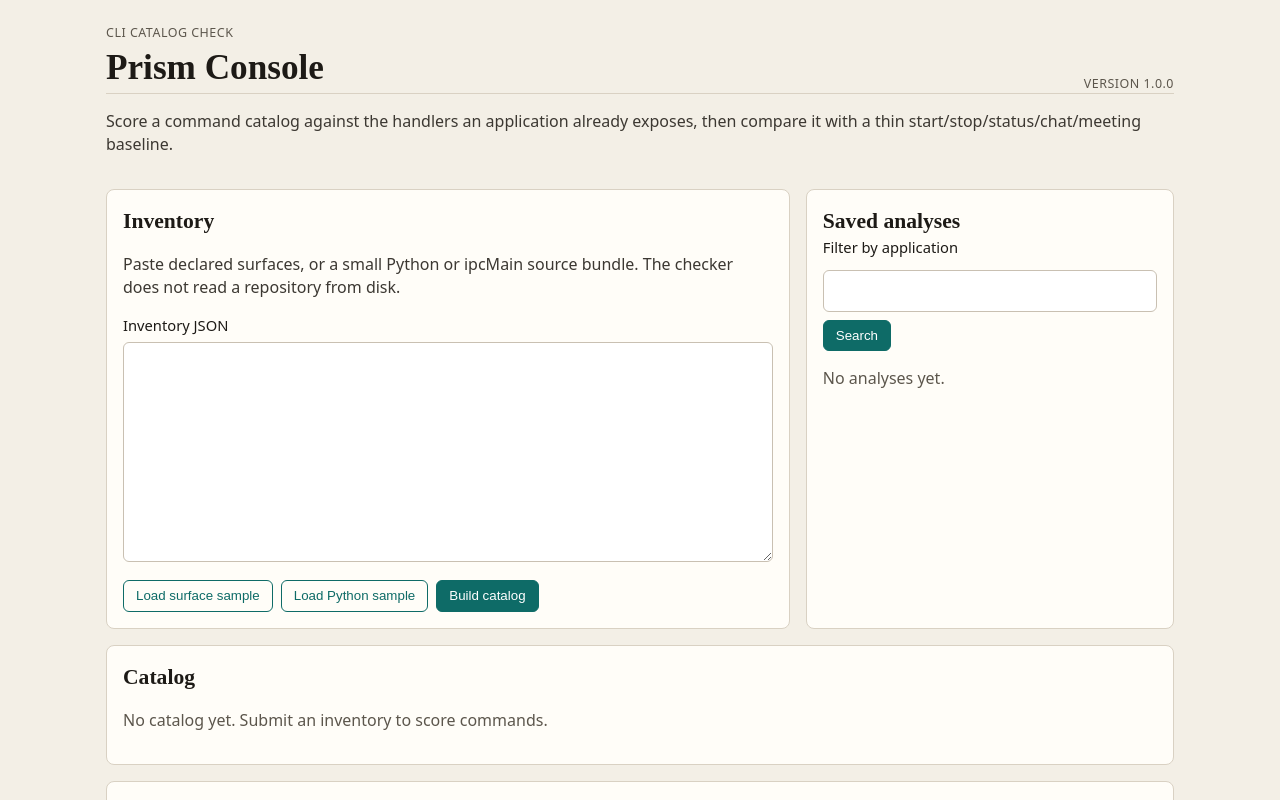
Test case: renders the command and scores returned by the API
Check: the text "No analyses yet." is shown, box [823, 367, 945, 389]
Click the text box labelled "Inventory JSON" at (448, 452), box [123, 342, 773, 562]
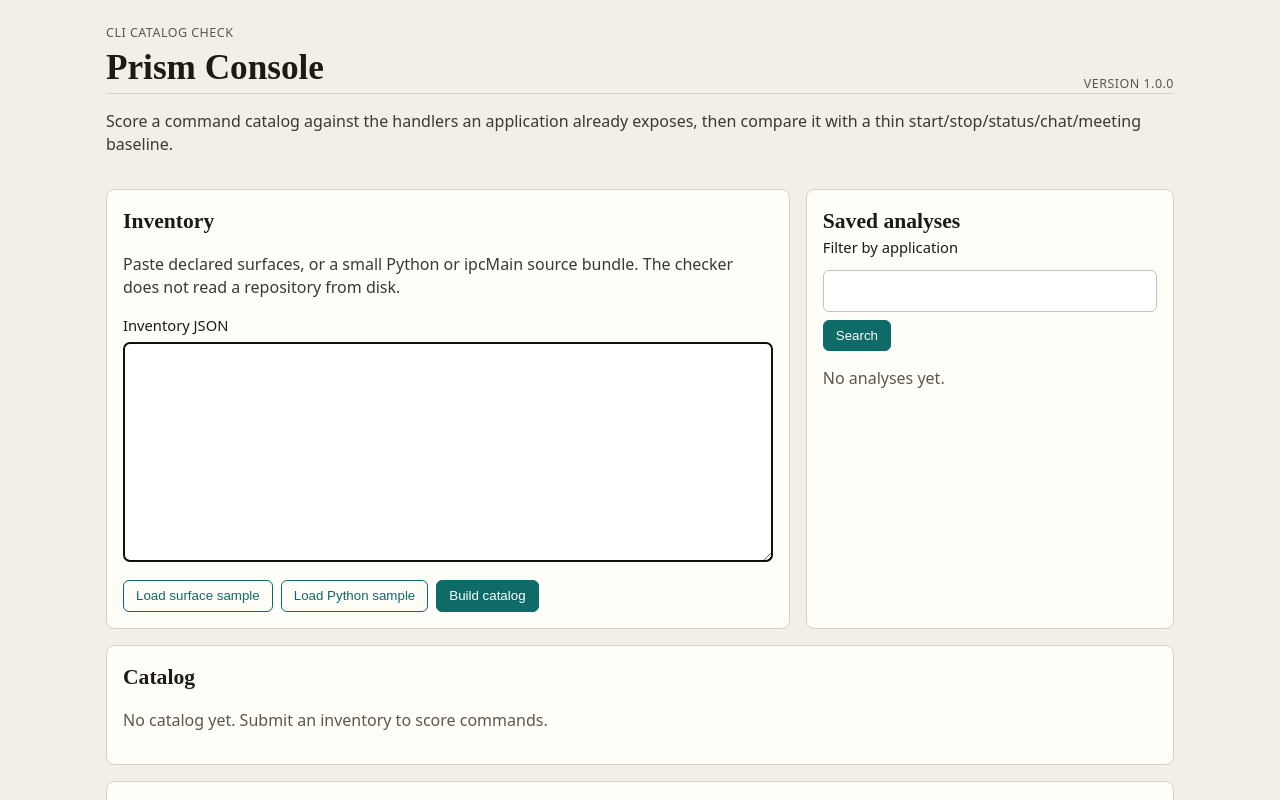
Type keys "{\"application\":\"lane-desk\",\"surfaces\":[]}"
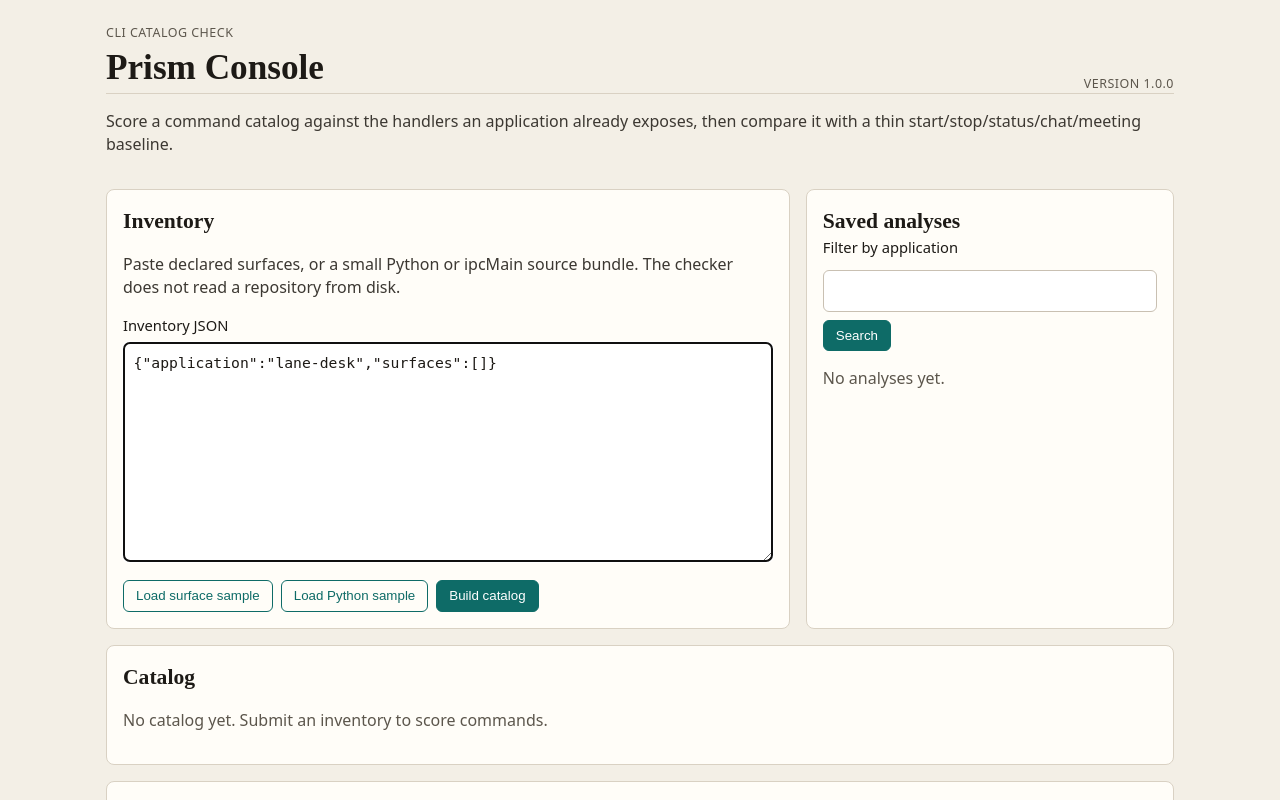
Click the button "Build catalog" at (487, 596), box [436, 580, 539, 612]
(page scrolled)
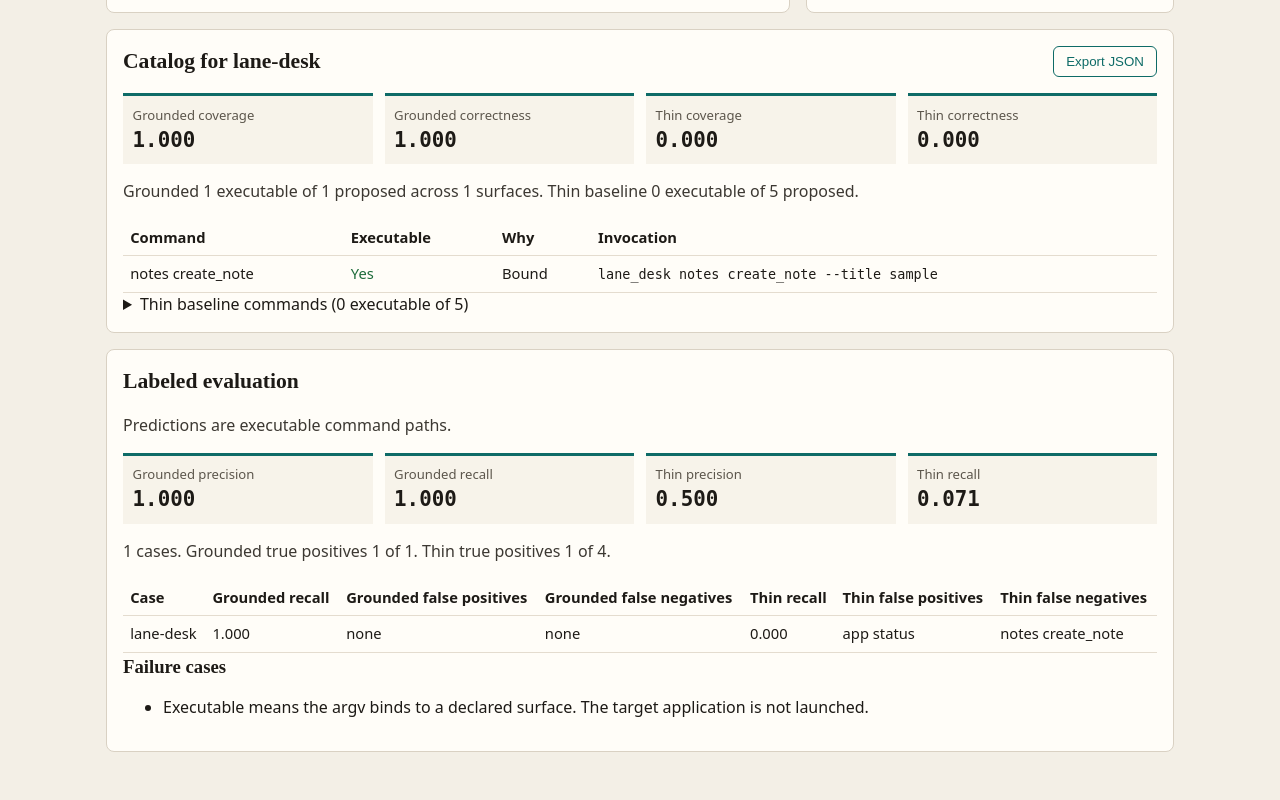
Check: the text "app status" is shown, box [835, 616, 993, 652]
Check: the text "lane_desk notes create_note --title sample" is shown, box [598, 268, 938, 282]
